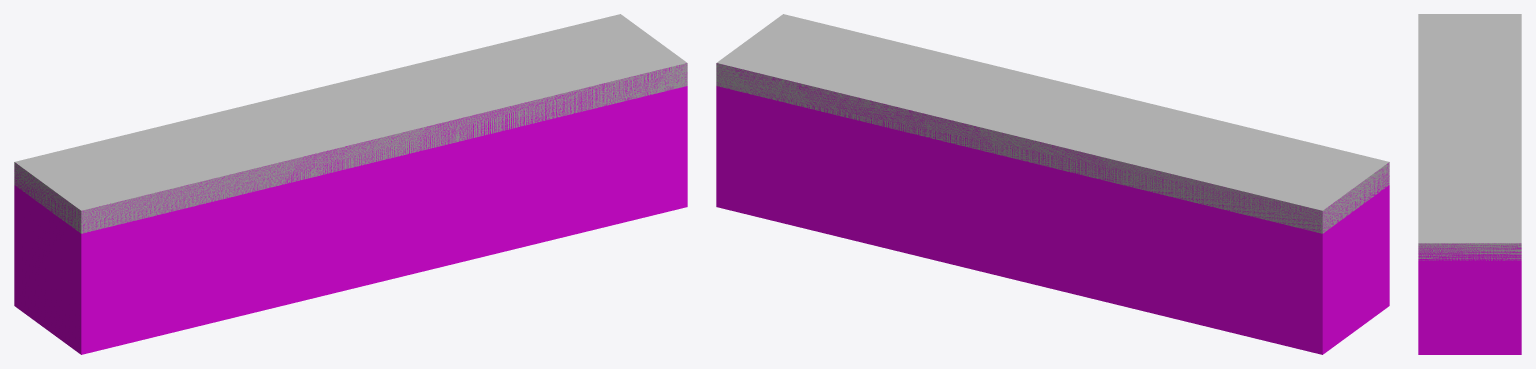
File: bench.glb
3 views of the same model, side by side, from view 1: azimuth 30°, elevation 25°; view 2: azimuth 150°, elevation 25°; view 3: azimuth 270°, elevation 25° (orthographic). The views are drawn at different scales.
Visible parts, largest first — view 1: bench_hull, bench; view 2: bench_hull, bench; view 3: bench, bench_hull.
Part boxes in pixels (bbox=[...]): bench_hull: bbox=[14, 63, 687, 354]; bench: bbox=[14, 14, 687, 233]; bench_hull: bbox=[716, 63, 1389, 354]; bench: bbox=[716, 14, 1389, 233]; bench: bbox=[1418, 14, 1521, 260]; bench_hull: bbox=[1418, 243, 1521, 354].
Size of the model in its own units: 2.2 by 0.5 by 0.42.
